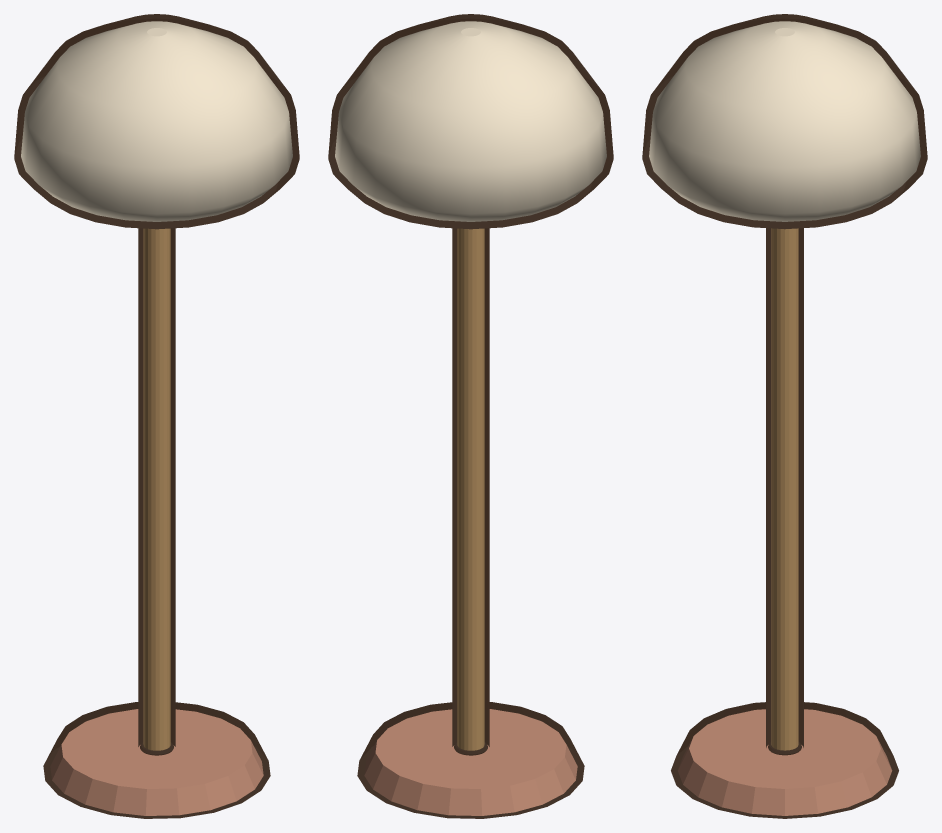
Rendered from atelier-lamp.glb.
3 views of the same model, side by side, from view 1: azimuth 30°, elevation 25°; view 2: azimuth 150°, elevation 25°; view 3: azimuth 270°, elevation 25° (orthographic).
Visible parts, largest first — view 1: atelier-lamp, atelier-lamp-outline; view 2: atelier-lamp, atelier-lamp-outline; view 3: atelier-lamp, atelier-lamp-outline.
Part boxes in pixels (x1,y1,x2,y2): atelier-lamp: (21,21,292,815); atelier-lamp-outline: (14,14,299,818); atelier-lamp: (335,21,606,815); atelier-lamp-outline: (328,14,613,818); atelier-lamp: (649,21,920,815); atelier-lamp-outline: (642,14,927,818).
Size of the model in its own units: 0.714 by 2.06 by 0.714.
